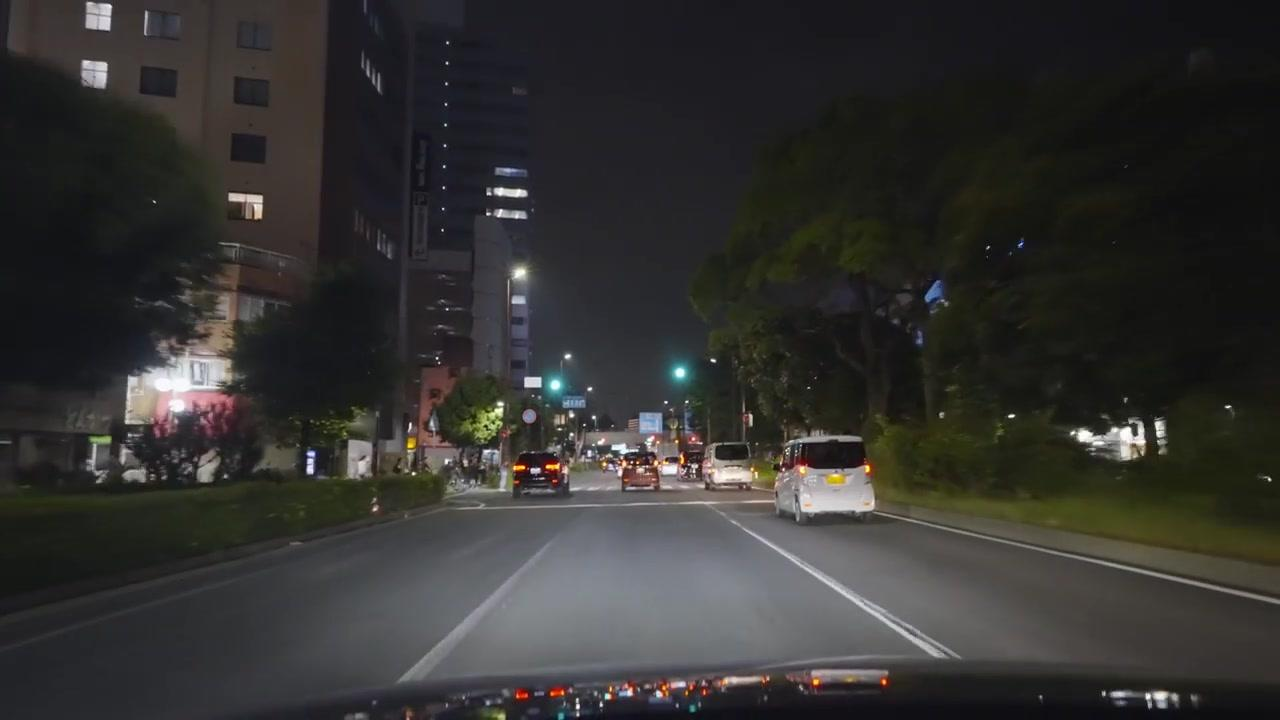car: (773, 435, 876, 524), (511, 450, 571, 499), (700, 441, 754, 491), (620, 457, 661, 492), (602, 457, 623, 474)
traffic light: (545, 371, 564, 402), (671, 363, 687, 385), (522, 408, 537, 425)
truck: (700, 441, 754, 492)
